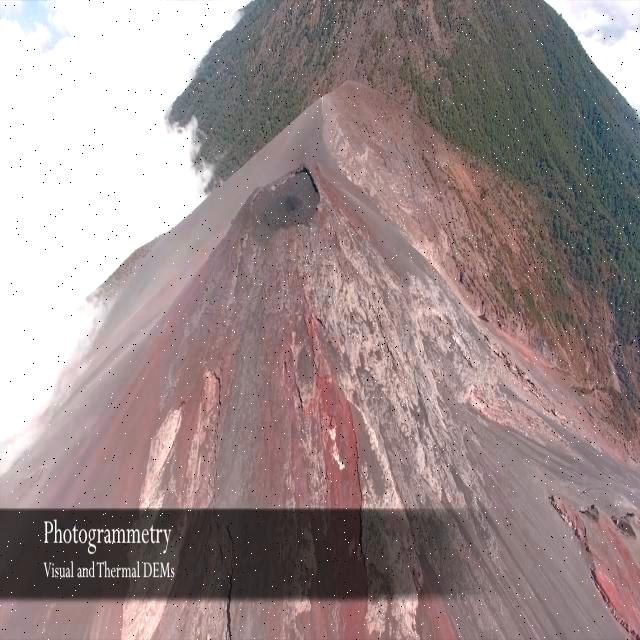Summit: (87, 145, 536, 504)
